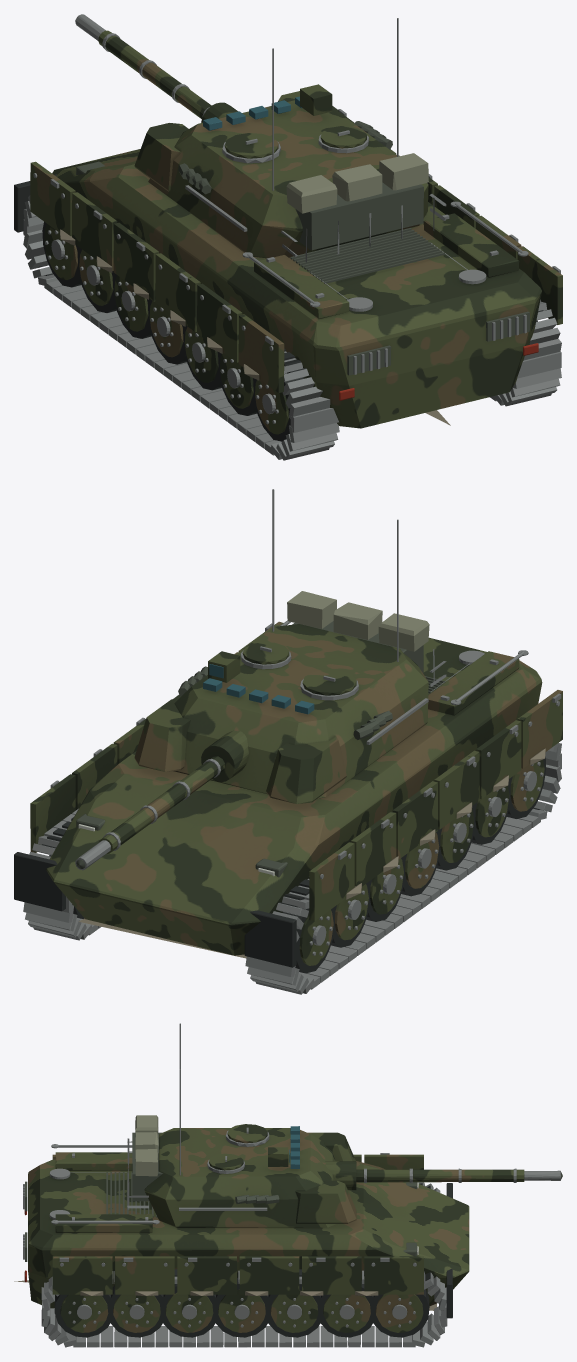
File: mbt-lod2.glb
The picture shows the model from 3 angles, top to bottom: view 1: azimuth 30°, elevation 25°; view 2: azimuth 150°, elevation 25°; view 3: azimuth 270°, elevation 25°; orthographic projection. The views are drawn at different scales.
Parts seen in each view (by area): view 1: Chassis NATO olive paint, Turret NATO olive paint, Tracks.L Worn track steel, Chassis Dark camouflage paint, Turret Dark camouflage paint, Turret Canvas stowage, Chassis Worn track steel, Tracks.R Worn track steel, Gun NATO olive paint, Turret Worn track steel, Road wheel, Chassis Dried lower hull mud (+9 smaller); view 2: Chassis NATO olive paint, Turret NATO olive paint, Tracks.L Worn track steel, Chassis Track rubber, Turret Canvas stowage, Gun NATO olive paint, Tracks.R Worn track steel, Turret Worn track steel, Chassis Worn track steel, Turret Dark camouflage paint, Chassis Dried lower hull mud, Turret Coated optical glass (+9 smaller); view 3: Chassis NATO olive paint, Turret NATO olive paint, Tracks.R Worn track steel, Gun NATO olive paint, Chassis Worn track steel, Turret Canvas stowage, Turret Worn track steel, Road wheel.013, Road wheel.011, Road wheel.010, Road wheel.012, Road wheel.009 (+15 smaller).
Part boxes in pixels (box(x1,y1,x2,y2)): Chassis NATO olive paint: box(30, 111, 562, 428); Turret NATO olive paint: box(134, 84, 428, 258); Tracks.L Worn track steel: box(23, 195, 339, 460); Chassis Dark camouflage paint: box(76, 161, 529, 375); Turret Dark camouflage paint: box(178, 121, 423, 250); Turret Canvas stowage: box(286, 153, 428, 213); Chassis Worn track steel: box(33, 109, 560, 374); Tracks.R Worn track steel: box(490, 299, 561, 406); Gun NATO olive paint: box(98, 30, 237, 122); Turret Worn track steel: box(185, 18, 446, 262); Road wheel: box(255, 379, 288, 434); Chassis Dried lower hull mud: box(60, 229, 450, 425); Chassis NATO olive paint: box(30, 621, 562, 955); Turret NATO olive paint: box(134, 624, 428, 803); Tracks.L Worn track steel: box(245, 742, 561, 994); Chassis Track rubber: box(14, 852, 296, 967); Turret Canvas stowage: box(287, 591, 429, 651); Gun NATO olive paint: box(98, 730, 248, 853); Tracks.R Worn track steel: box(23, 808, 101, 940); Turret Worn track steel: box(240, 489, 446, 744); Chassis Worn track steel: box(50, 620, 561, 879); Turret Dark camouflage paint: box(178, 621, 423, 739); Chassis Dried lower hull mud: box(79, 748, 545, 958); Turret Coated optical glass: box(203, 664, 314, 714); Chassis NATO olive paint: box(28, 1152, 469, 1308); Turret NATO olive paint: box(144, 1124, 356, 1227); Tracks.R Worn track steel: box(41, 1270, 447, 1347); Gun NATO olive paint: box(324, 1161, 524, 1190); Chassis Worn track steel: box(23, 1144, 416, 1266); Turret Canvas stowage: box(135, 1115, 158, 1176); Turret Worn track steel: box(127, 1023, 269, 1210); Road wheel.013: box(375, 1294, 423, 1332); Road wheel.011: box(270, 1289, 318, 1332); Road wheel.010: box(218, 1289, 265, 1332); Road wheel.012: box(323, 1294, 370, 1332); Road wheel.009: box(165, 1292, 213, 1332).
Bounding box in the file's own units: 4.24 × 4.58 × 8.99.
9 materials, 1 textured.
